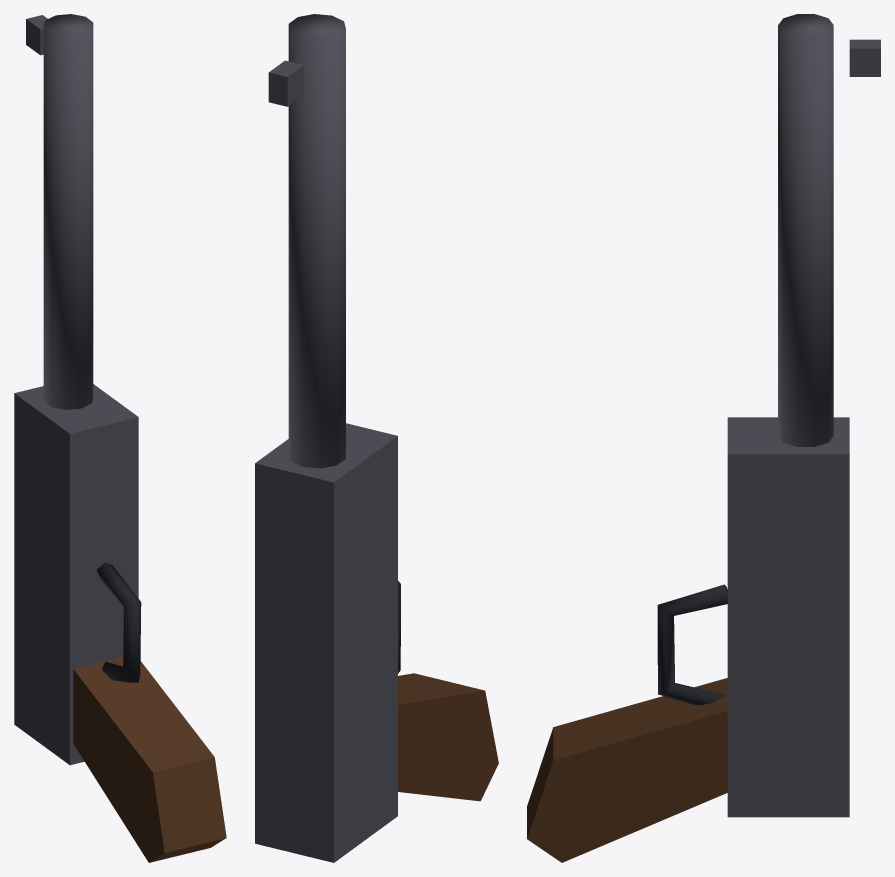
The model's file is revolver.glb.
The picture shows the model from 3 angles, left to right: view 1: azimuth 30°, elevation 25°; view 2: azimuth 150°, elevation 25°; view 3: azimuth 270°, elevation 25°; orthographic projection. The views are drawn at different scales.
Visible parts, largest first — view 1: revolver_v0; view 2: revolver_v0; view 3: revolver_v0.
Boxes of the visible parts, x1,y1,x2,y2 form: revolver_v0: (14,14,226,862); revolver_v0: (255,14,498,862); revolver_v0: (527,14,880,862).
Size of the model in its own units: 0.05 by 0.52 by 0.203.
